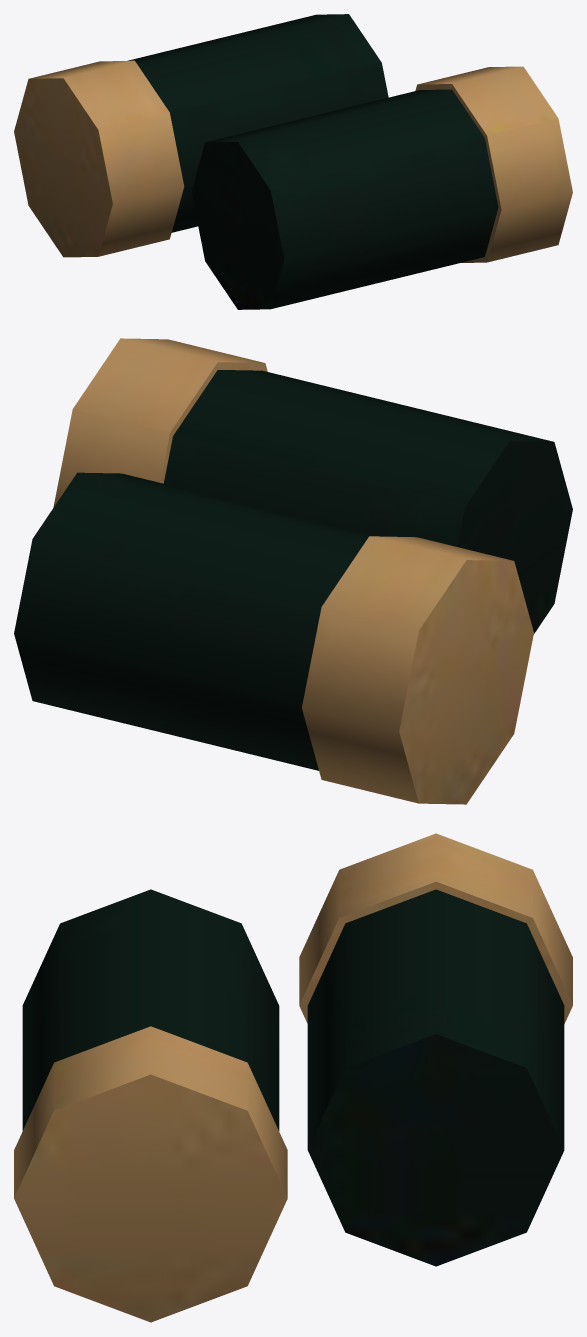
The model's file is piercing-shotgun-shell.glb.
3 views of the same model, one above another, from view 1: azimuth 30°, elevation 25°; view 2: azimuth 150°, elevation 25°; view 3: azimuth 270°, elevation 25° (orthographic). The views are drawn at different scales.
Visible parts, largest first — view 1: piercing-shotgun-shell; view 2: piercing-shotgun-shell; view 3: piercing-shotgun-shell.
Part boxes in pixels (x1,y1,x2,y2): piercing-shotgun-shell: [14, 14, 572, 309]; piercing-shotgun-shell: [14, 338, 572, 804]; piercing-shotgun-shell: [14, 833, 572, 1322].
Bounding box in the file's own units: 0.2 × 0.096 × 0.196.
1 material, 1 textured.
